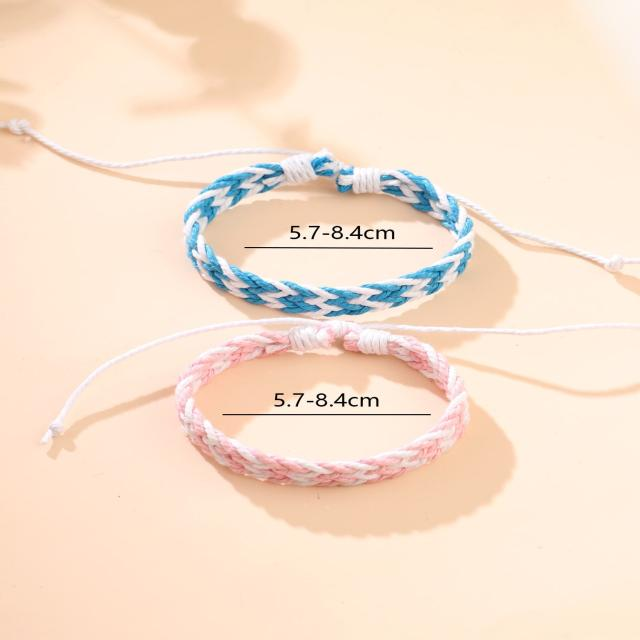bracelet: (4, 100, 554, 318), (80, 300, 640, 502)
